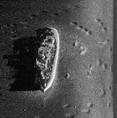ship: (32, 26, 60, 94)
